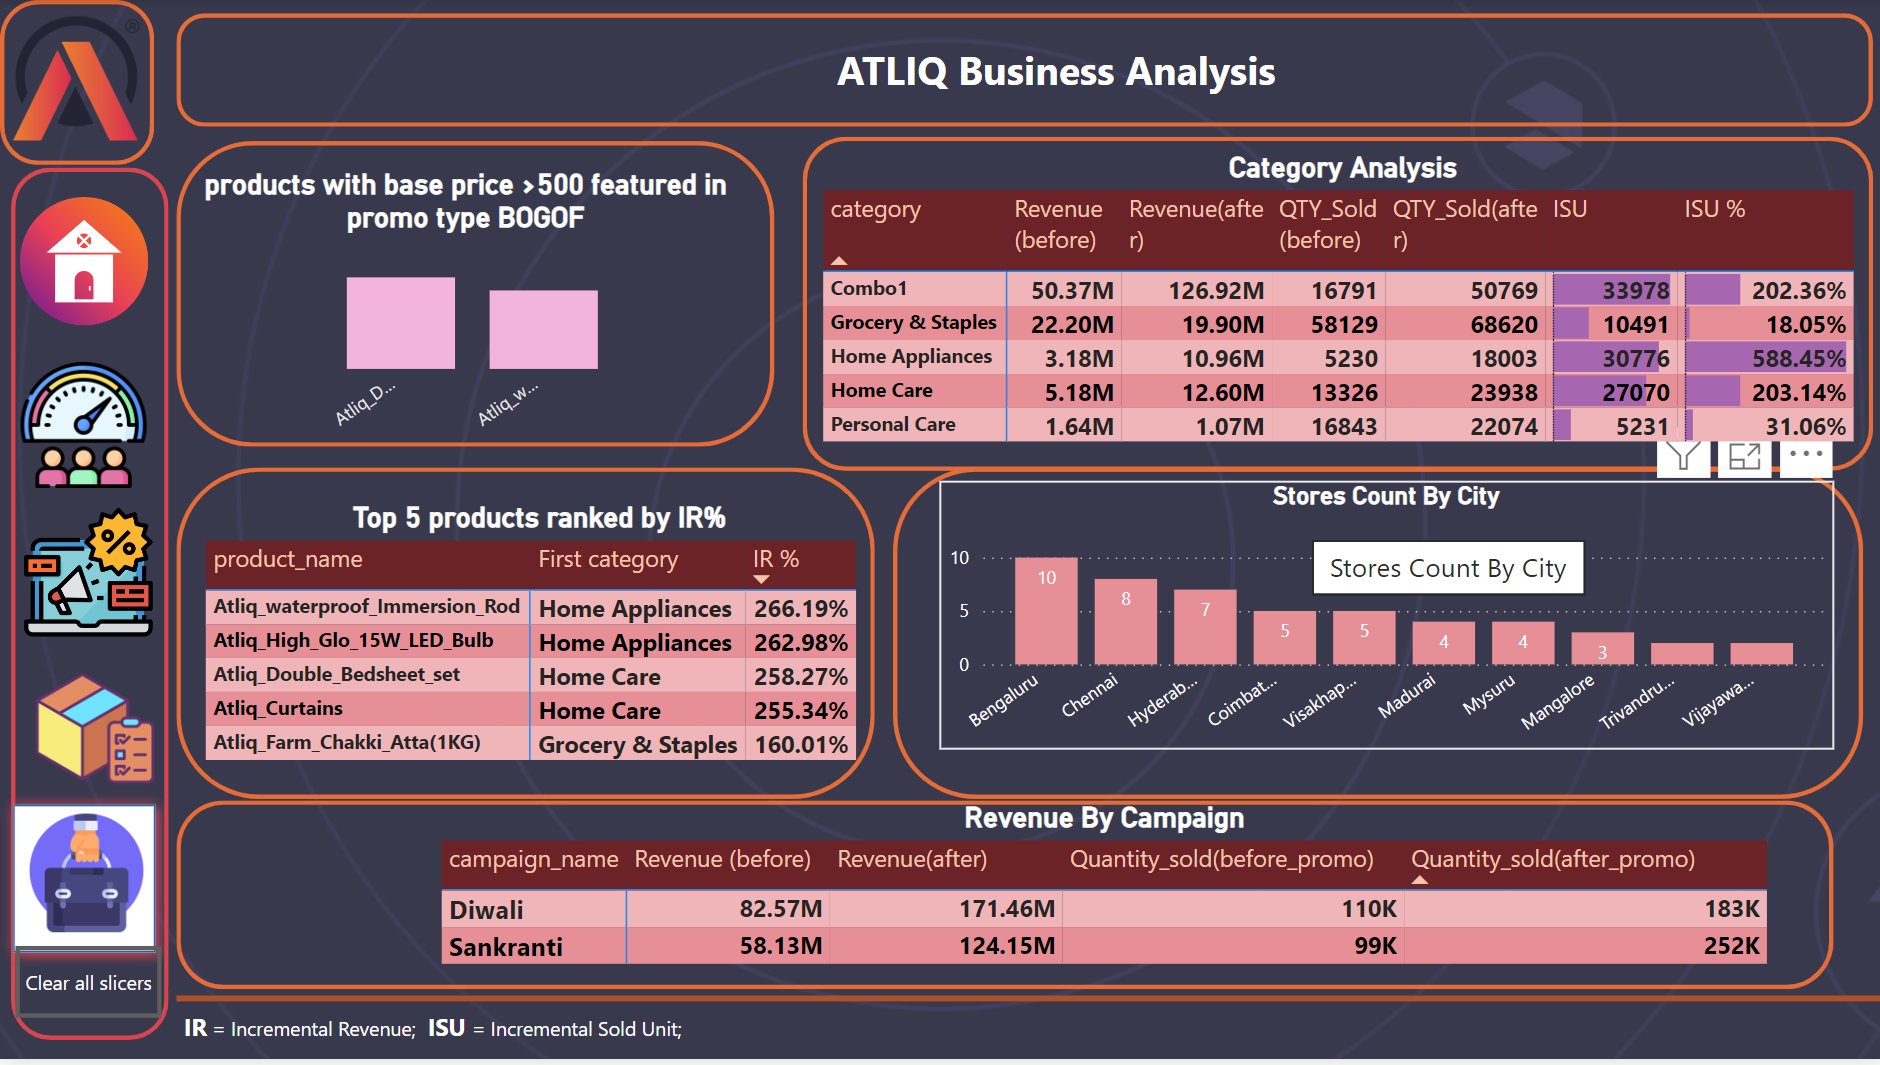

The page's visual inventory and layout, read from the dashboard file:
{"tool":"powerbi","page":{"name":"Business Analysis","canvas":[1280,720],"ordinal":5},"visuals":[{"type":"shape","box":[7.4,114.6,107.2,593.2],"z":0},{"type":"shape","box":[0,537.7,114.6,118.3],"z":1000},{"type":"image","box":[12.9,543.3,90.5,101.6],"z":2000},{"type":"image","box":[14.5,448.6,99.5,94.1],"z":3000},{"type":"shape","box":[119.6,95.7,406.6,207.9],"z":4000},{"type":"shape","box":[119.4,544.4,1126.8,128.4],"z":5000},{"type":"shape","box":[608,317.8,659.7,225.4],"z":6000},{"type":"shape","box":[119.6,9.2,1153.6,77.3],"z":7000},{"type":"shape","box":[120.1,317.8,474.9,225.4],"z":8000},{"type":"shape","box":[545.1,92.4,728.1,227.3],"z":9000},{"type":"shape","box":[0,0,104.9,112.2],"z":10000},{"type":"image","box":[3.6,3.6,99.5,99.5],"z":11000},{"type":"image","box":[7.2,103.1,99.5,148.3],"z":12000},{"type":"image","box":[9,238.7,95.9,101.3],"z":13000},{"type":"image","box":[10.9,340,99.5,97.7],"z":14000},{"type":"clusteredColumnChart","title":"Stores Count By City","fields":{"Category":["dim_stores.city"],"Y":["Key_measures.Store_count"]},"box":[639.4,327.1,608,182.9],"z":15000},{"type":"clusteredColumnChart","title":"products with base price >500 featured in promo type BOGOF","fields":{"Category":["dim_products.product_name"],"Y":["Key_measures.base_price_item"]},"box":[130.2,113.9,372.6,189.9],"z":16000},{"type":"actionButton","box":[10.9,643.9,99.5,48.8],"z":17000},{"type":"pivotTable","title":"Category Analysis","fields":{"Rows":["dim_products.category"],"Values":["Key_measures.Revenue_before_promo","Key_measures.Revenue_after_promo","Sum(fact_events.quantity_sold(before_promo))","Sum(fact_events.quantity_sold(after_promo))","Sum(fact_events.ISU)","Key_measures.ISU %"]},"box":[554.4,101.6,717,203.3],"z":18000},{"type":"pivotTable","title":"Top 5 products ranked by IR%","fields":{"Rows":["dim_products.product_name"],"Values":["Min(dim_products.category)","Key_measures.IR %"]},"box":[134.9,340,463.8,197.7],"z":19000},{"type":"shape","box":[120.1,644.9,1160.5,68.4],"z":20000},{"type":"textbox","box":[120.1,681.9,589.5,38.8],"z":21000},{"type":"textbox","box":[188.5,24,1058.8,49.9],"z":22000},{"type":"pivotTable","title":"Revenue By Campaign","fields":{"Rows":["dim_campaign.campaign_name"],"Values":["Key_measures.Revenue_before_promo","Key_measures.Revenue_after_promo","Sum(fact_events.quantity_sold(before_promo))","Sum(fact_events.quantity_sold(after_promo))"]},"box":[294.8,544.4,911.6,137.5],"z":23000}]}

Visuals, with their boxes in screenshot pixels (x1, y1, x2, y2), scaled from the page's 1280x720 canvas onto the 1880x1065 screenshot:
shape: <box>11,170,168,1047</box>
shape: <box>0,795,168,970</box>
image: <box>19,804,152,954</box>
image: <box>21,664,167,803</box>
shape: <box>176,142,773,449</box>
shape: <box>175,805,1830,995</box>
shape: <box>893,470,1862,803</box>
shape: <box>176,14,1870,128</box>
shape: <box>176,470,874,803</box>
shape: <box>801,137,1870,473</box>
shape: <box>0,0,154,166</box>
image: <box>5,5,151,153</box>
image: <box>11,153,157,372</box>
image: <box>13,353,154,503</box>
image: <box>16,503,162,647</box>
"Stores Count By City" clusteredColumnChart: <box>939,484,1832,754</box>
"products with base price >500 featured in promo type BOGOF" clusteredColumnChart: <box>191,168,738,449</box>
actionButton: <box>16,952,162,1025</box>
"Category Analysis" pivotTable: <box>814,150,1867,451</box>
"Top 5 products ranked by IR%" pivotTable: <box>198,503,879,795</box>
shape: <box>176,954,1879,1055</box>
textbox: <box>176,1009,1042,1064</box>
textbox: <box>277,36,1832,109</box>
"Revenue By Campaign" pivotTable: <box>433,805,1772,1009</box>
